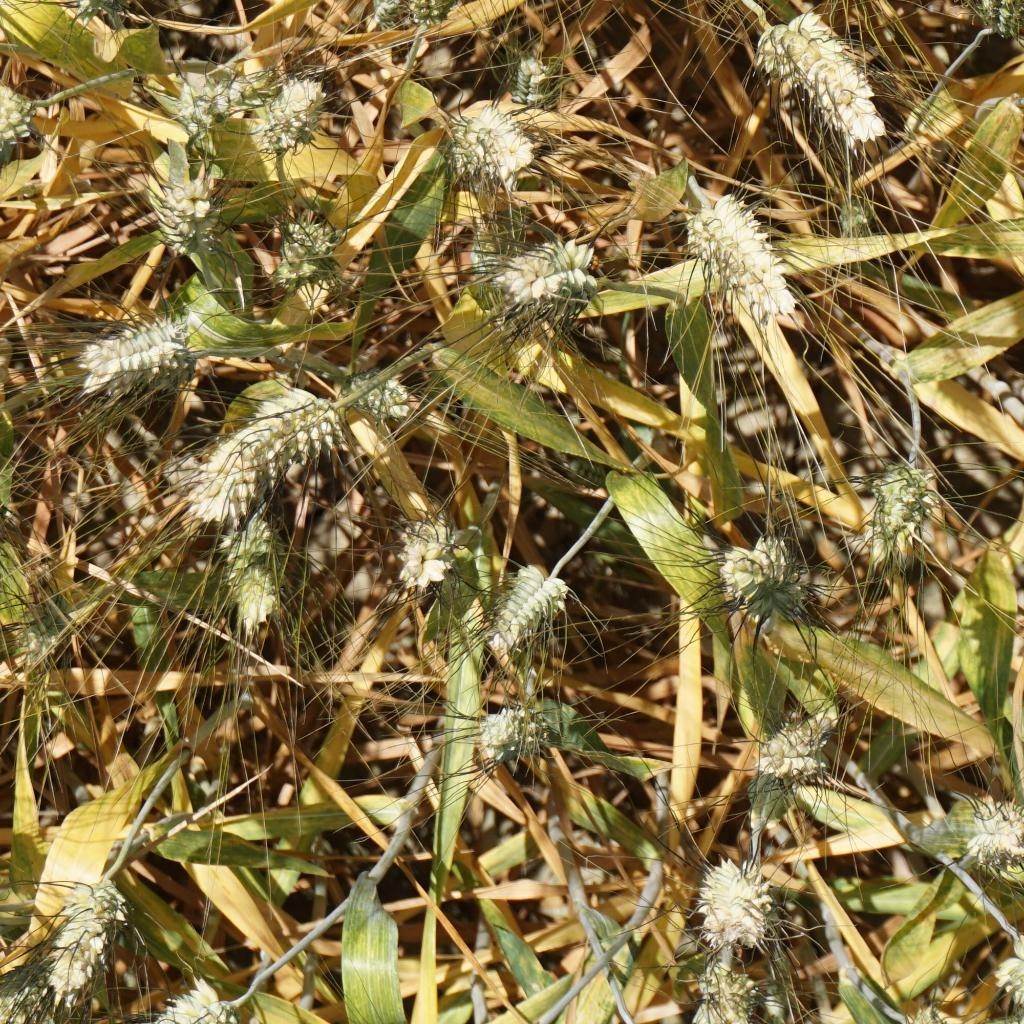0-0: (680, 184, 812, 335), (749, 12, 881, 156), (206, 392, 334, 508), (28, 874, 124, 989), (692, 856, 782, 948), (854, 453, 935, 551), (467, 567, 566, 644), (720, 540, 809, 624), (85, 312, 187, 380), (443, 99, 531, 176), (2, 595, 72, 683), (500, 248, 607, 305), (344, 349, 420, 428), (470, 695, 547, 766), (969, 783, 1024, 877), (756, 712, 841, 772), (155, 172, 219, 251), (389, 516, 456, 590), (0, 79, 49, 180), (281, 207, 341, 287), (177, 56, 239, 132), (221, 567, 284, 640), (156, 975, 249, 1024), (751, 708, 804, 793), (265, 85, 325, 152), (696, 975, 772, 1024), (995, 927, 1024, 1024), (234, 510, 283, 559), (507, 48, 554, 98), (971, 0, 1024, 39), (62, 0, 135, 22), (398, 0, 459, 21)
